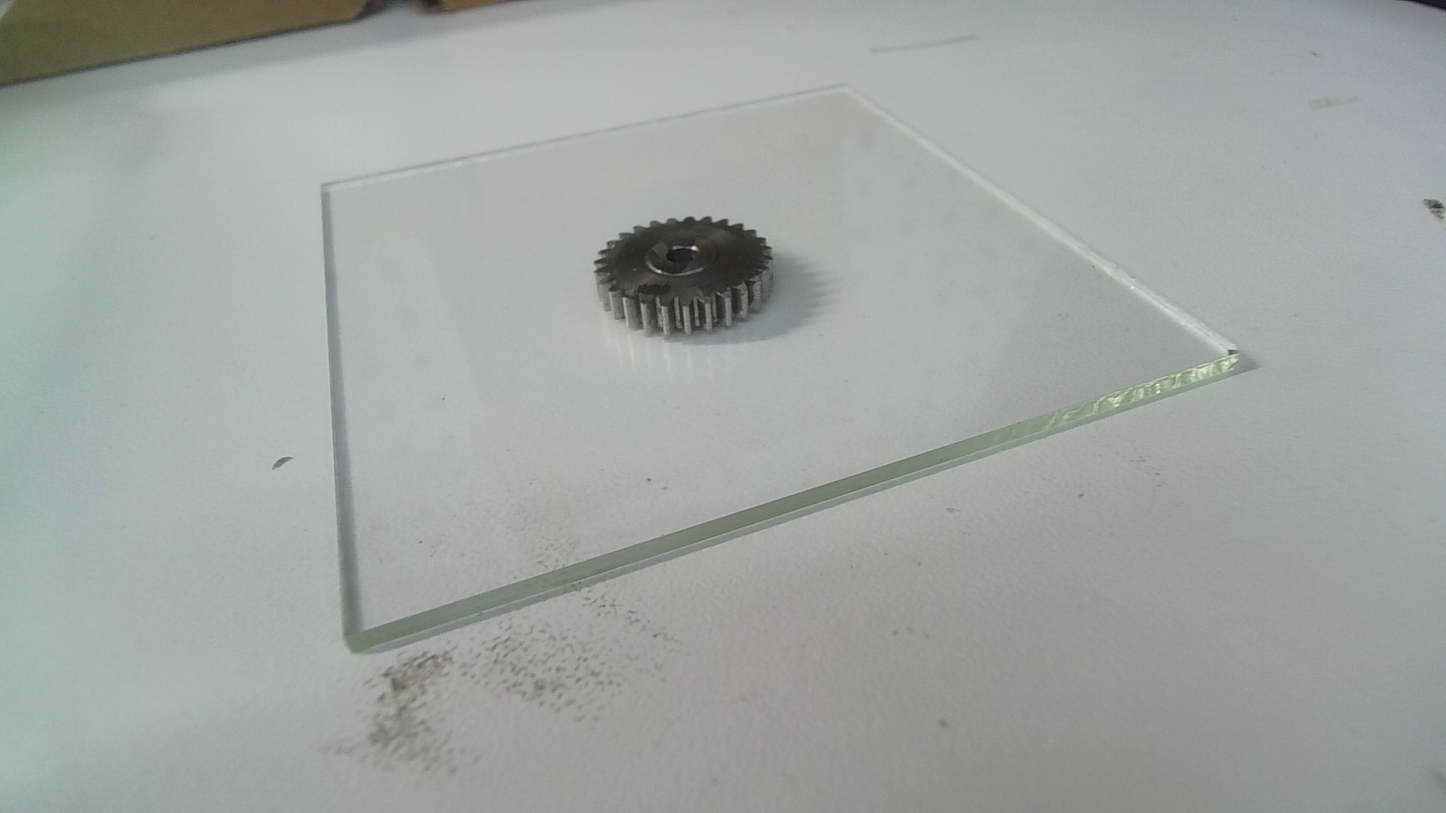gear: (590, 212, 779, 341)
